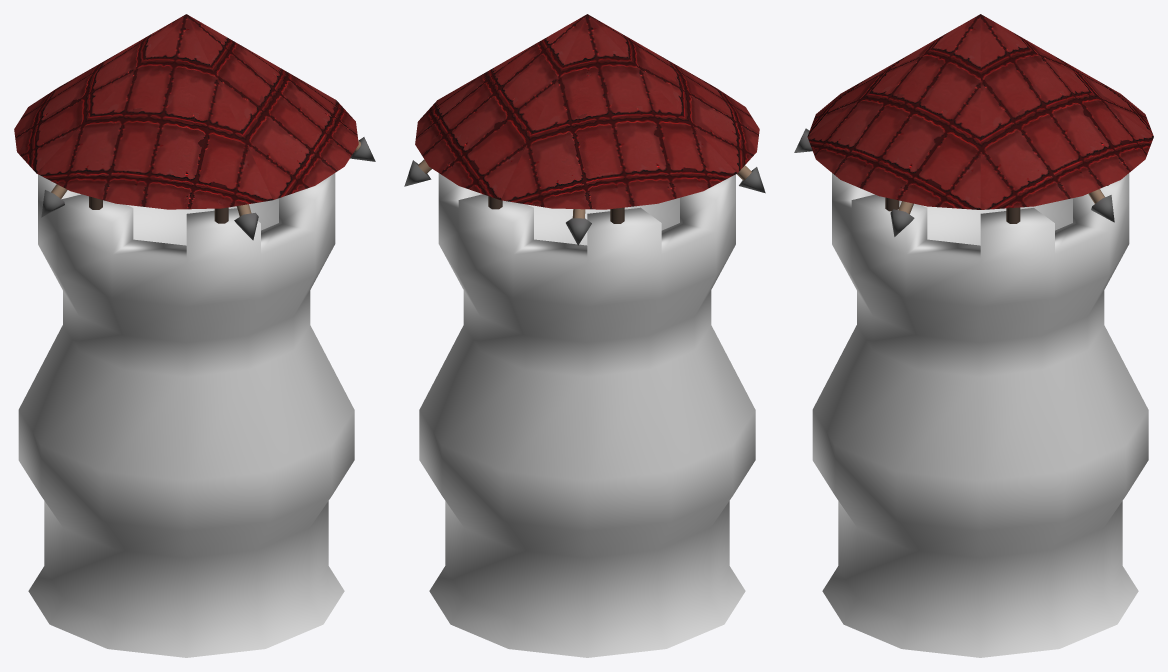
Rendered from Multishottower.fbx.
3 views of the same model, side by side, from view 1: azimuth 30°, elevation 25°; view 2: azimuth 150°, elevation 25°; view 3: azimuth 270°, elevation 25° (orthographic).
Visible parts, largest first — view 1: Tower, Top_Arrows; view 2: Tower, Top_Arrows; view 3: Tower, Top_Arrows.
Part boxes in pixels (x1=…): Tower: x1=18, y1=173, x2=354, y2=657; Top_Arrows: x1=14, y1=14, x2=375, y2=240; Tower: x1=419, y1=173, x2=755, y2=657; Top_Arrows: x1=404, y1=14, x2=765, y2=245; Tower: x1=812, y1=173, x2=1148, y2=657; Top_Arrows: x1=794, y1=14, x2=1153, y2=236.
Size of the model in its own units: 5.06 by 8.96 by 5.06.
